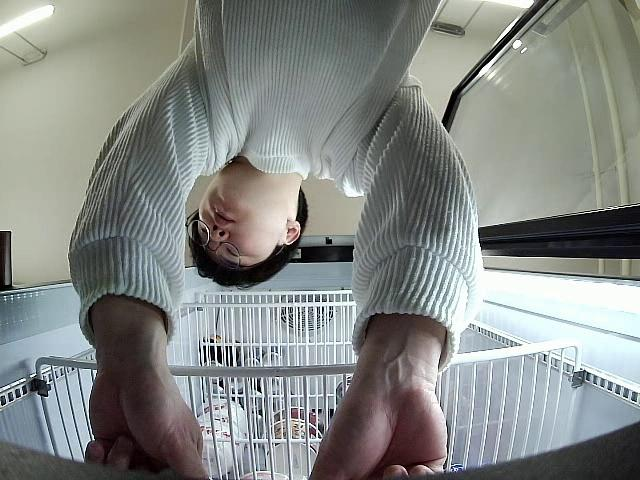00_hand: (309, 375, 447, 480), (83, 368, 210, 480)
